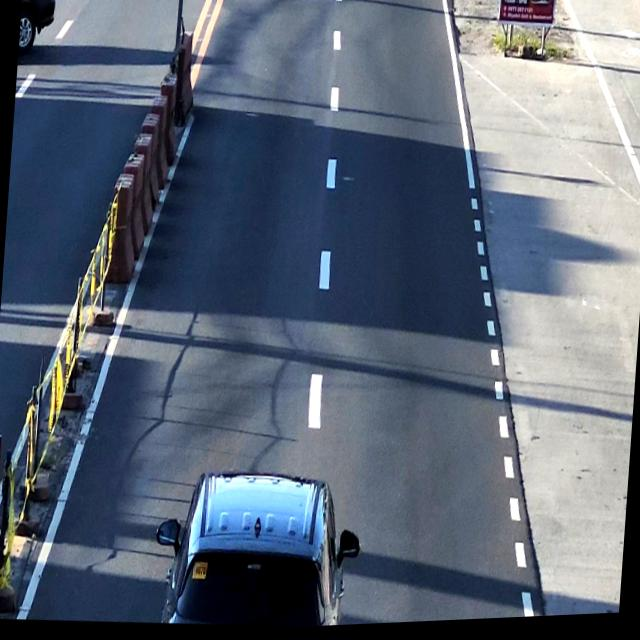Car: (158, 464, 357, 634)
